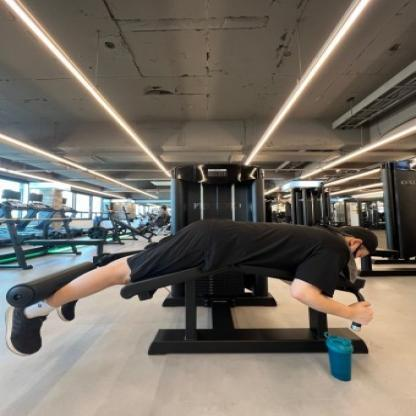reg curl machine: (5, 163, 393, 366)
